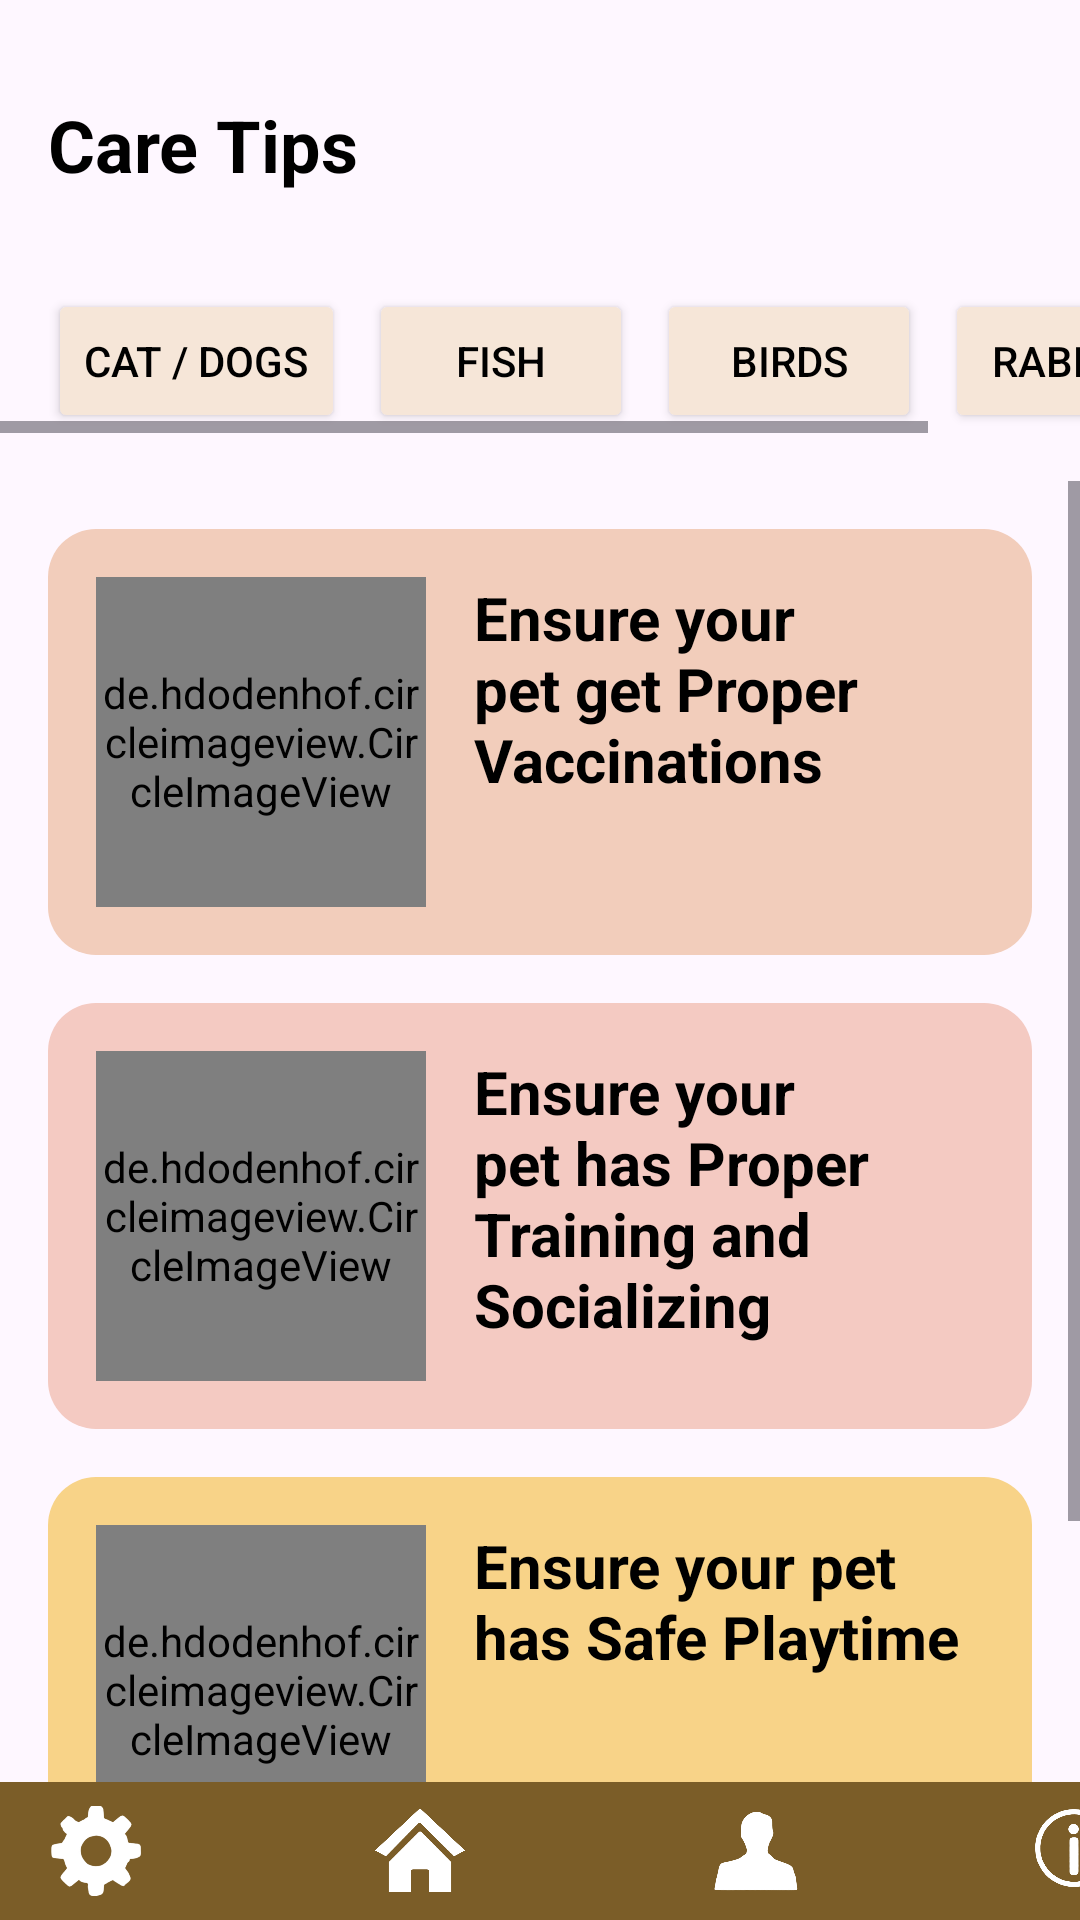

Icons on this 1080×1920 Android screen, each with the point to tap as [x,y]:
home: [420,1850]
profile: [756,1851]
